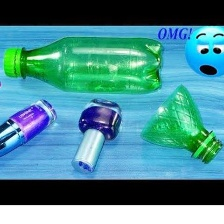bottle: (0, 32, 166, 98)
